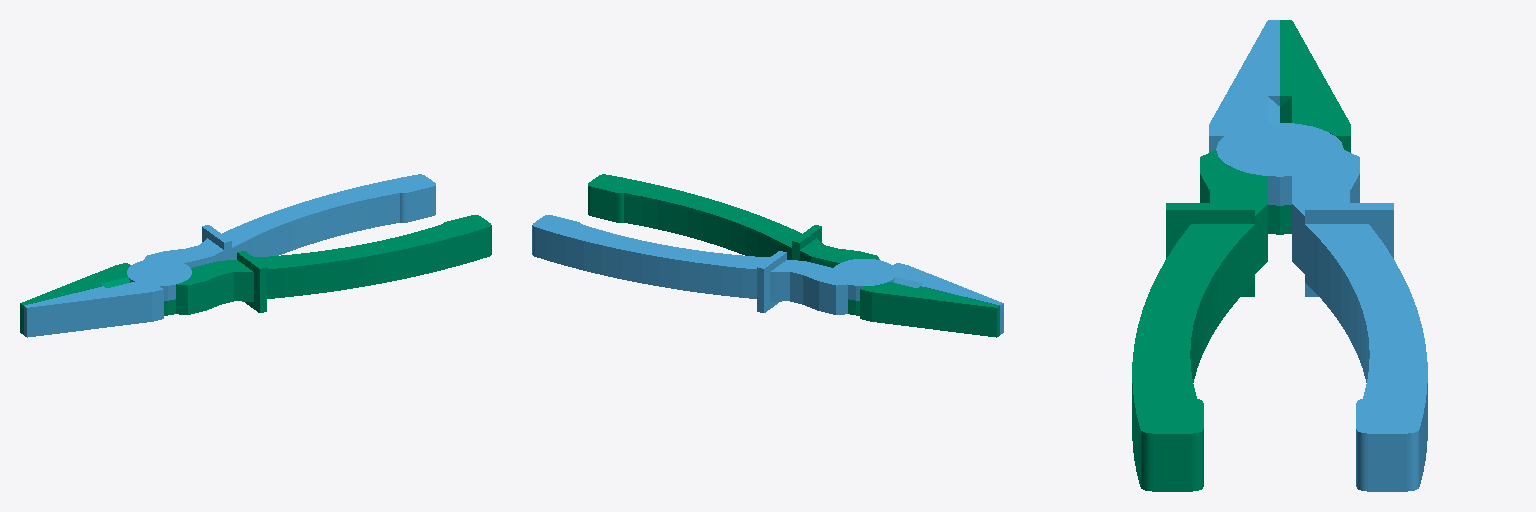
URDF robot description (partnet_2f4b18402dee61003f7c6295b60afd1b):
<?xml version="1.0" ?>
<robot name="partnet_2f4b18402dee61003f7c6295b60afd1b">
	<link name="base"/>
	<link name="link_0">
        <contact>
          <lateral_friction value="1"/>
          <rolling_friction value="0.0001"/>
          <inertia_scaling value="3.0"/>
        </contact>
        <inertial>
          <origin rpy="0 0 0" xyz="0 0 0"/>
           <mass value="0.2"/>
           <inertia ixx="1" ixy="0" ixz="0" iyy="1" iyz="0" izz="1"/>
        </inertial>
		<visual name="leg-1">
			<origin xyz="0 0 -0.4114376480132342"/>
			<geometry>
				<mesh filename="textured_objs/original-2.obj"/>
			</geometry>
		</visual>
		<visual name="leg-1">
			<origin xyz="0 0 -0.4114376480132342"/>
			<geometry>
				<mesh filename="textured_objs/original-3.obj"/>
			</geometry>
		</visual>
		<collision>
			<origin xyz="0 0 -0.4114376480132342"/>
			<geometry>
				<mesh filename="textured_objs/original-2.obj"/>
			</geometry>
		</collision>
		<collision>
			<origin xyz="0 0 -0.4114376480132342"/>
			<geometry>
				<mesh filename="textured_objs/original-3.obj"/>
			</geometry>
		</collision>
	</link>
	<joint name="joint_0" type="fixed">
		<origin xyz="0 0 0.4114376480132342"/>
		<axis xyz="0 1 0"/>
		<child link="link_0"/>
		<parent link="link_1"/>
		<limit lower="0.0" upper="0.5235987755982988"/>
	</joint>
	<link name="link_1">
        <contact>
          <lateral_friction value="1"/>
          <rolling_friction value="0.0001"/>
          <inertia_scaling value="3.0"/>
        </contact>
        <inertial>
          <origin rpy="0 0 0" xyz="0 0 0"/>
           <mass value="0.2"/>
           <inertia ixx="1" ixy="0" ixz="0" iyy="1" iyz="0" izz="1"/>
        </inertial>
		<visual name="base_body-2">
			<origin xyz="0 0 0"/>
			<geometry>
				<mesh filename="textured_objs/original-4.obj"/>
			</geometry>
		</visual>
		<visual name="base_body-2">
			<origin xyz="0 0 0"/>
			<geometry>
				<mesh filename="textured_objs/original-1.obj"/>
			</geometry>
		</visual>
		<collision>
			<origin xyz="0 0 0"/>
			<geometry>
				<mesh filename="textured_objs/original-4.obj"/>
			</geometry>
		</collision>
		<collision>
			<origin xyz="0 0 0"/>
			<geometry>
				<mesh filename="textured_objs/original-1.obj"/>
			</geometry>
		</collision>
	</link>
	<joint name="joint_1" type="fixed">
		<origin rpy="1.570796326794897 0 -1.570796326794897" xyz="0 0 0"/>
		<child link="link_1"/>
		<parent link="base"/>
	</joint>
</robot>

--- Facts derived from the render (not from the file) ---
Views: 3 orthographic renders of the robot side by side, from view 1: azimuth 30°, elevation 25°; view 2: azimuth 150°, elevation 25°; view 3: azimuth 270°, elevation 25°.
Robot: partnet_2f4b18402dee61003f7c6295b60afd1b — 3 links, 2 joints (2 fixed); root link base; default pose: all joints at 0.
Visible links, largest first — view 1: link_0, link_1; view 2: link_0, link_1; view 3: link_0, link_1.
Boxes of the visible links, x1,y1,x2,y2 form: link_0: (24, 174, 435, 337); link_1: (20, 215, 491, 334); link_0: (532, 215, 1003, 334); link_1: (588, 174, 999, 337); link_0: (1209, 20, 1427, 491); link_1: (1132, 20, 1350, 491).
Size in the robot's own frame: 1.89 by 0.571 by 0.1855 metres.
Meshes: 4 distinct files referenced, 4 mesh visuals loaded (4 OBJ).